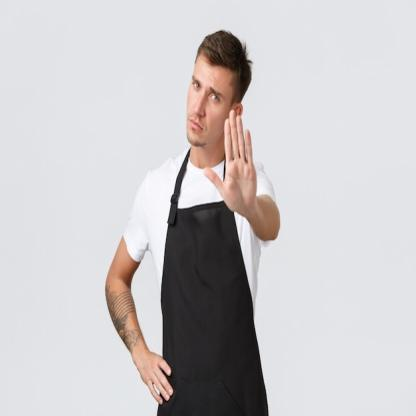stop: (200, 109, 260, 220)
